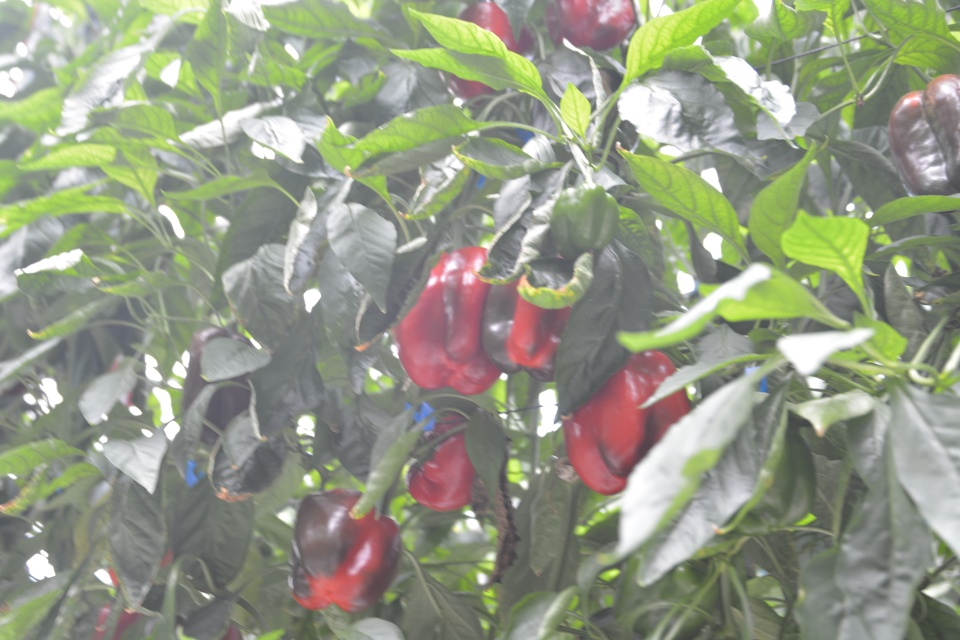fruit: (560, 348, 698, 496), (393, 244, 501, 397), (288, 484, 403, 616), (480, 256, 574, 383), (884, 72, 960, 214), (616, 548, 720, 640), (180, 322, 255, 448), (443, 0, 519, 100), (407, 408, 478, 511), (548, 180, 622, 254), (544, 0, 640, 52)
